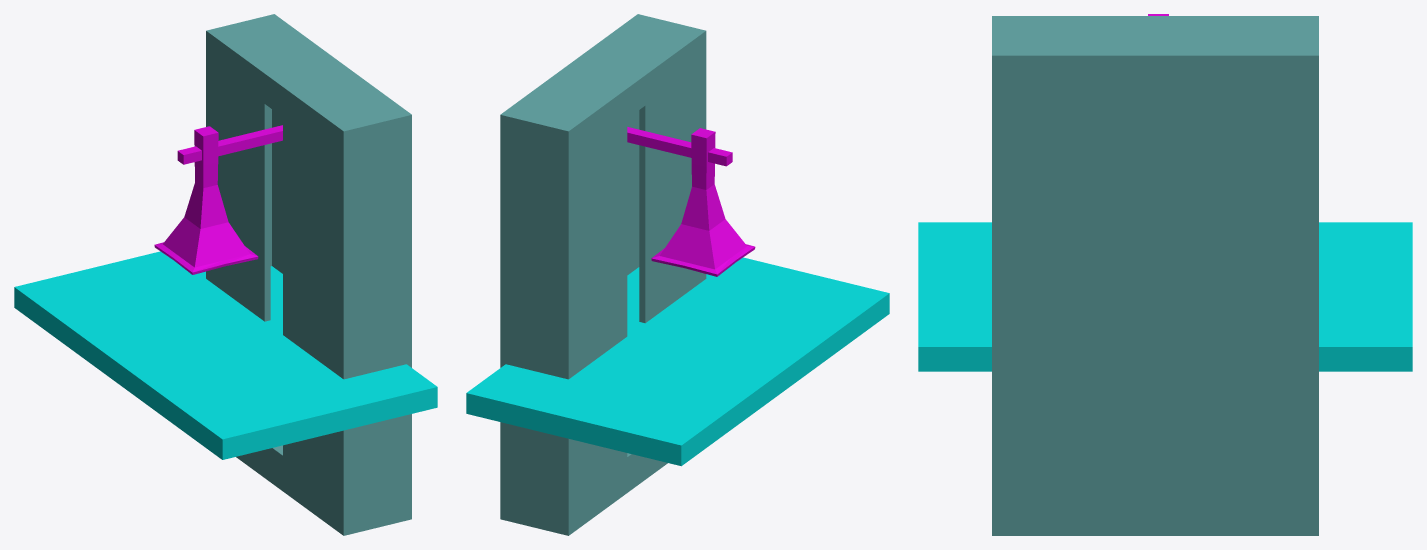
File: Crusher.fbx
3 views of the same model, side by side, from view 1: azimuth 30°, elevation 25°; view 2: azimuth 150°, elevation 25°; view 3: azimuth 270°, elevation 25° (orthographic). The views are drawn at different scales.
Visible parts, largest first — view 1: pCube8, pCube7, pCube6, pCube9; view 2: pCube8, pCube7, pCube6, pCube9; view 3: pCube8, pCube7.
Boxes of the visible parts, x1=… form: pCube8: x1=206, y1=14, x2=411, y2=535; pCube7: x1=14, y1=251, x2=437, y2=459; pCube6: x1=154, y1=126, x2=258, y2=274; pCube9: x1=177, y1=125, x2=282, y2=164; pCube8: x1=500, y1=14, x2=706, y2=535; pCube7: x1=466, y1=257, x2=889, y2=466; pCube6: x1=651, y1=128, x2=755, y2=276; pCube9: x1=627, y1=127, x2=732, y2=166; pCube8: x1=992, y1=16, x2=1318, y2=535; pCube7: x1=918, y1=222, x2=1412, y2=371.
Size of what is drawn, in the model's own units: 3.72 by 6.52 by 6.08.
